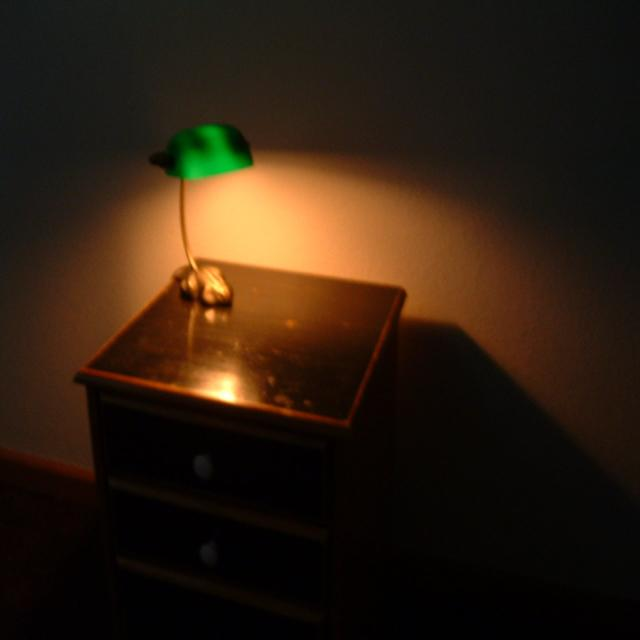Table: (72, 237, 433, 640)
